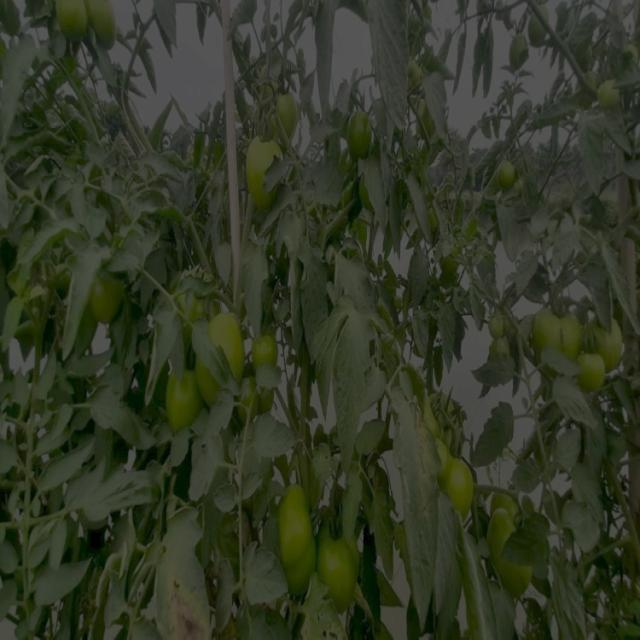tomato: (528, 285, 583, 361), (312, 527, 360, 611), (487, 510, 526, 601), (204, 307, 252, 378), (447, 452, 494, 520), (581, 307, 624, 375), (242, 131, 279, 207), (274, 490, 314, 557), (163, 377, 203, 438), (274, 91, 315, 141), (83, 1, 119, 52), (90, 283, 130, 326), (286, 546, 314, 601), (578, 341, 603, 398), (250, 326, 281, 369), (496, 155, 526, 199), (349, 107, 372, 160), (62, 1, 89, 44), (508, 26, 533, 68), (593, 77, 617, 117), (488, 313, 511, 344)
